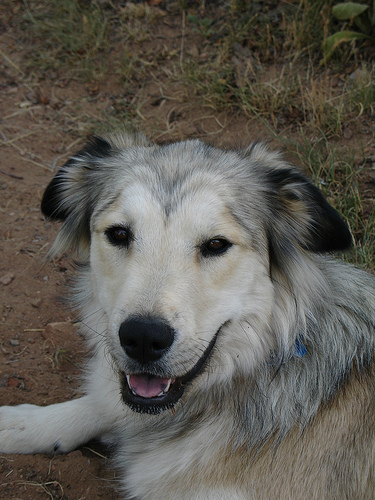dog: (1, 123, 373, 498)
